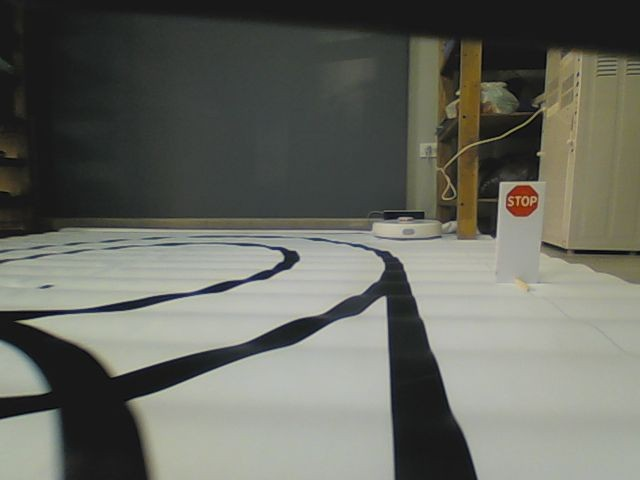Stop: (505, 185, 539, 218)
